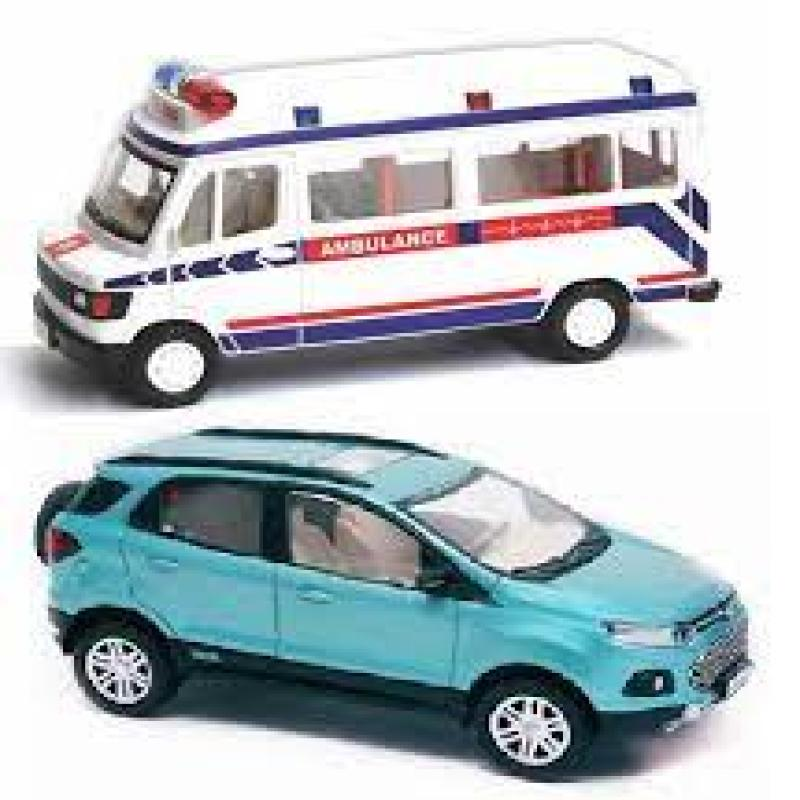AmbulanceSiren: (146, 45, 240, 137)
ambulance: (43, 45, 687, 380)
car: (45, 426, 725, 760)
